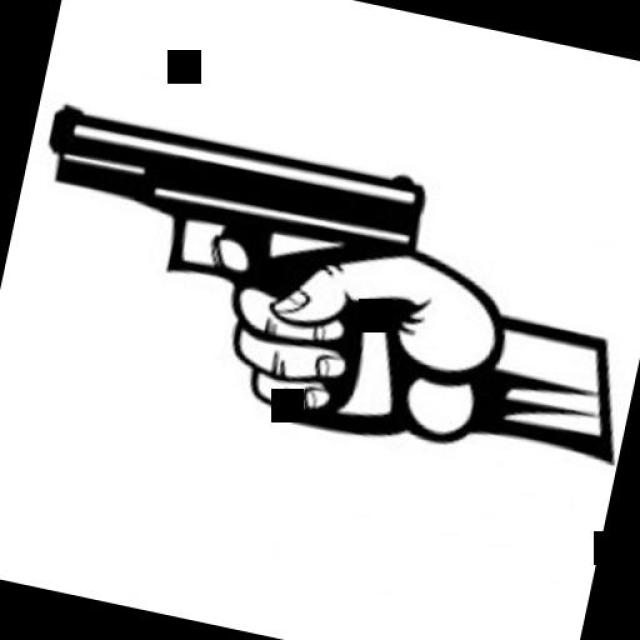gun: (0, 89, 450, 442)
